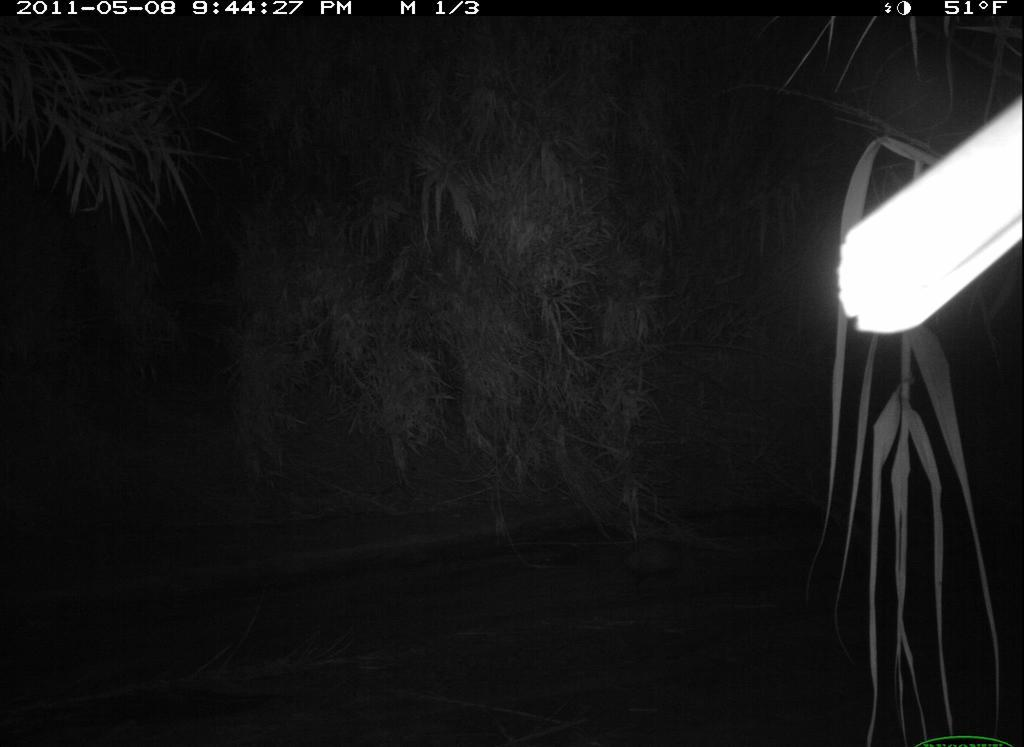opossum: (601, 533, 688, 588)
